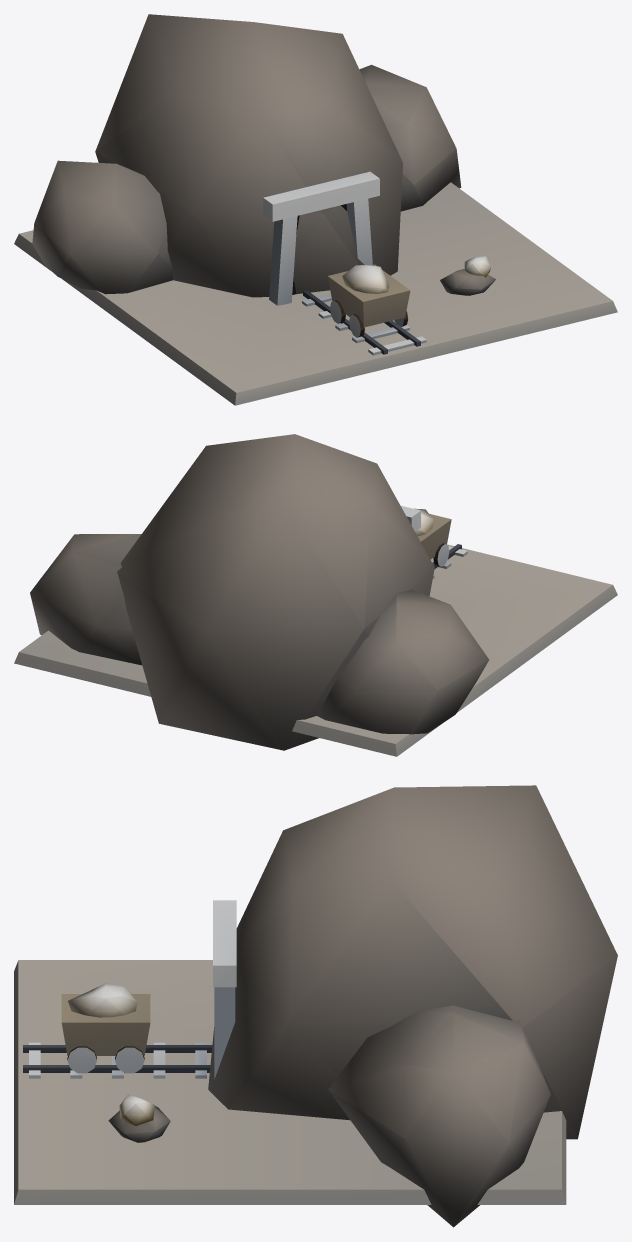
The model's file is goldmine_t1.glb.
3 views of the same model, one above another, from view 1: azimuth 30°, elevation 25°; view 2: azimuth 150°, elevation 25°; view 3: azimuth 270°, elevation 25° (orthographic). The views are drawn at different scales.
Parts seen in each view (by area): view 1: goldmine_t1; view 2: goldmine_t1; view 3: goldmine_t1.
Part boxes in pixels (x1,y1,x2,y2): goldmine_t1: [14, 14, 617, 405]; goldmine_t1: [14, 434, 617, 756]; goldmine_t1: [14, 785, 617, 1227].
Size of the model in its own units: 2.04 by 1.18 by 2.03.
